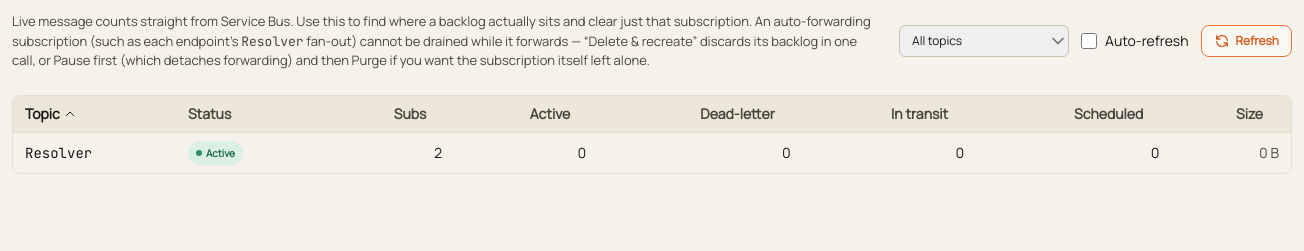
Test: SubscriptionManager › offers Resolver dead-letter inspection only on the terminal session subscription
Click the button "Resolver" at coordinates (59, 152), box [25, 142, 92, 162]
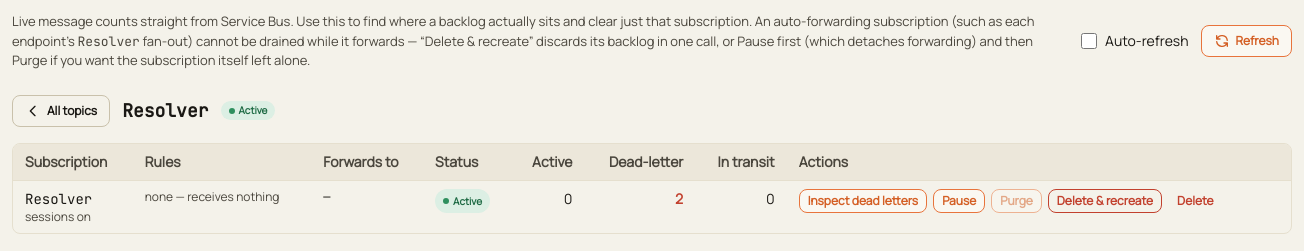
Expected: the button "Inspect dead letters" is shown, [799, 188, 927, 212]
